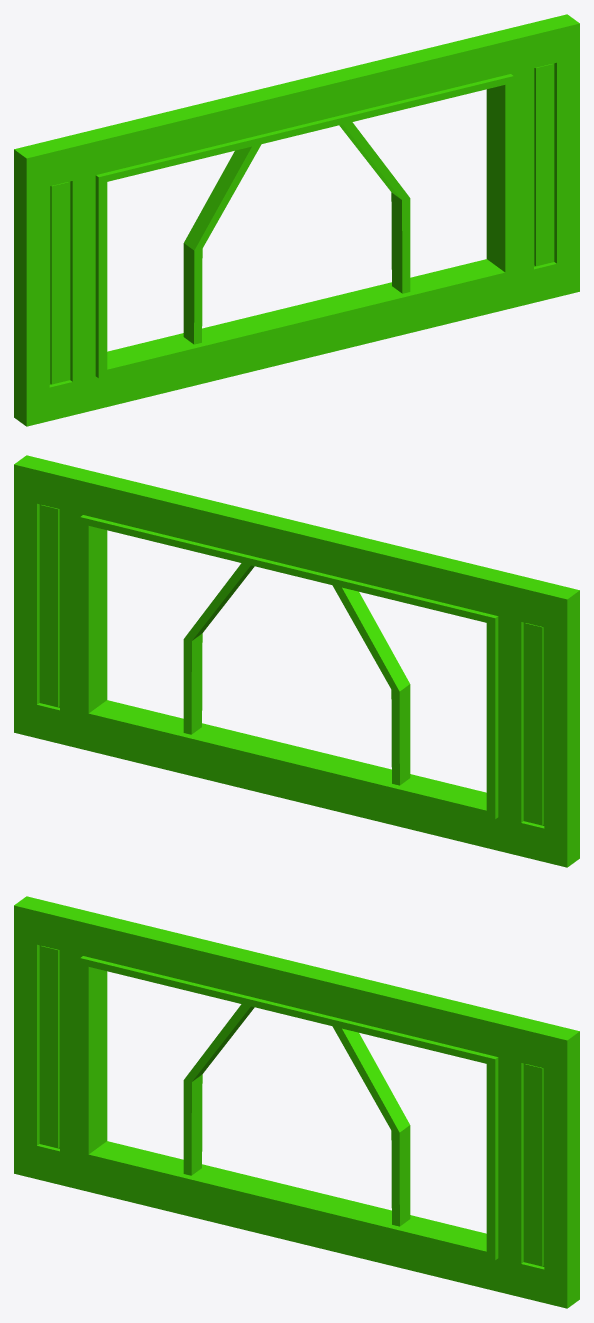
Rendered from Wall_Window_Big.fbx.
3 renders of one model, top to bottom at view 1: azimuth 30°, elevation 25°; view 2: azimuth 150°, elevation 25°; view 3: azimuth 330°, elevation 25°, orthographic.
Visible parts, largest first — view 1: Window_Big.001; view 2: Window_Big.001; view 3: Window_Big.001.
Boxes of the visible parts, left/top/right/bottom form: Window_Big.001: left=14, top=14, right=579, bottom=426; Window_Big.001: left=14, top=455, right=579, bottom=867; Window_Big.001: left=14, top=896, right=579, bottom=1308.
Bounding box in the file's own units: 864 × 400 × 49.95.
